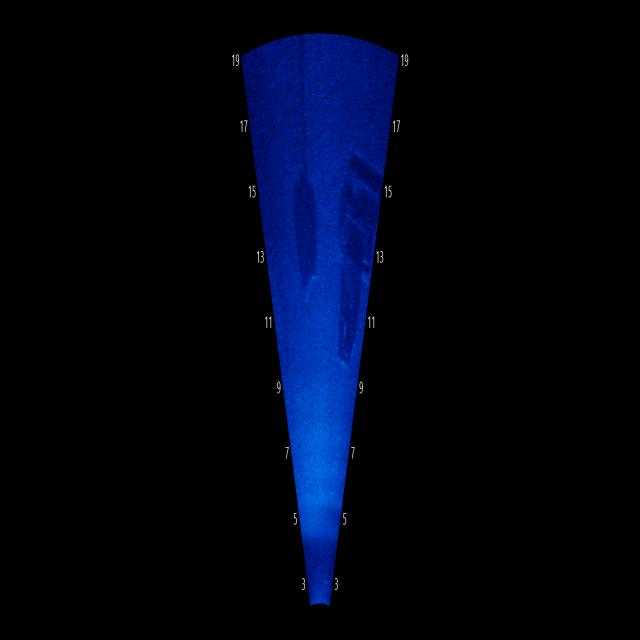square: (333, 142, 375, 288)
